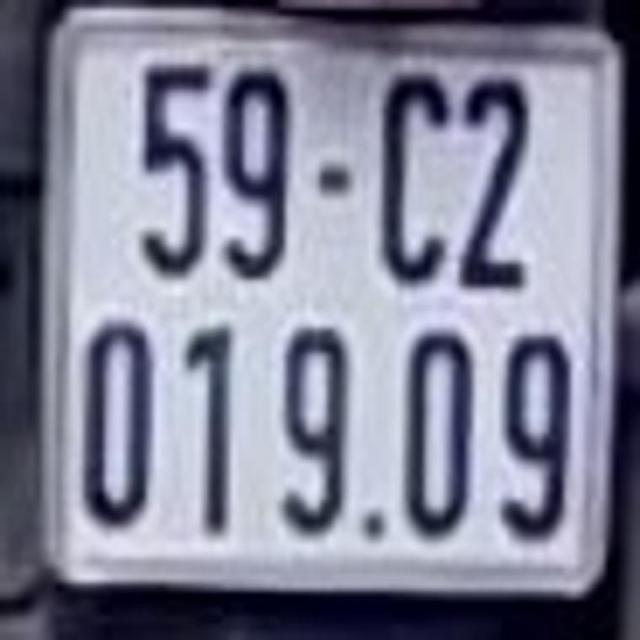0: (79, 310, 153, 534), (410, 329, 468, 528)
1: (184, 321, 233, 537)
2: (462, 73, 534, 281)
5: (142, 62, 209, 268)
9: (280, 316, 346, 534), (502, 332, 568, 540), (221, 68, 286, 262)
C: (384, 74, 446, 287)
